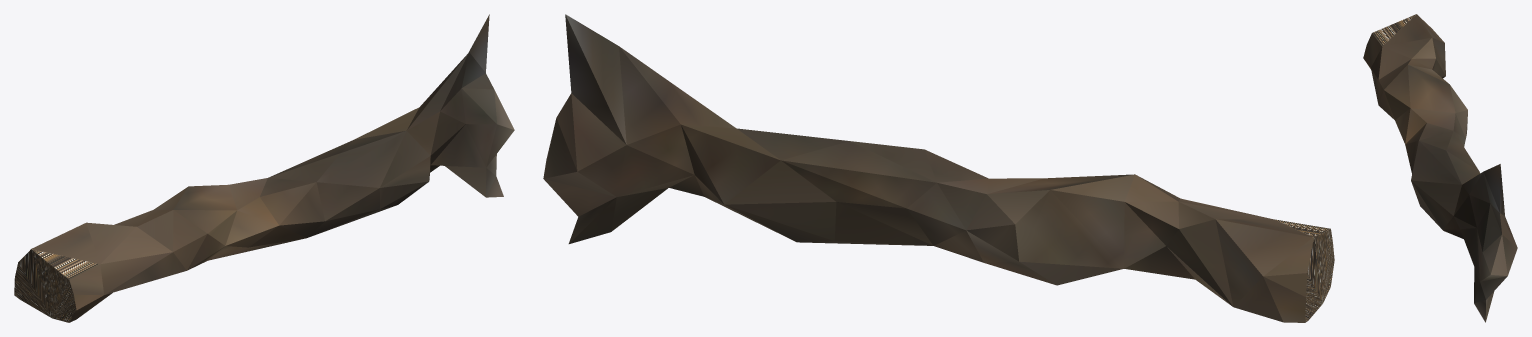
File: Sungaya_inexpectata_31mg.017.obj
The picture shows the model from 3 angles, left to right: view 1: azimuth 30°, elevation 25°; view 2: azimuth 150°, elevation 25°; view 3: azimuth 270°, elevation 25°; orthographic projection. The views are drawn at different scales.
Visible parts, largest first — view 1: 36-f-r-claws.000_Sungaya_inexpectata_31mg.017; view 2: 36-f-r-claws.000_Sungaya_inexpectata_31mg.017; view 3: 36-f-r-claws.000_Sungaya_inexpectata_31mg.017.
Part boxes in pixels (<box>): 36-f-r-claws.000_Sungaya_inexpectata_31mg.017: <box>14,14,514,322</box>; 36-f-r-claws.000_Sungaya_inexpectata_31mg.017: <box>543,14,1334,322</box>; 36-f-r-claws.000_Sungaya_inexpectata_31mg.017: <box>1363,14,1517,322</box>.
Bounding box in the file's own units: 0.00141 × 0.000453 × 0.000405.
Materials: 1 (1 with a texture image).
